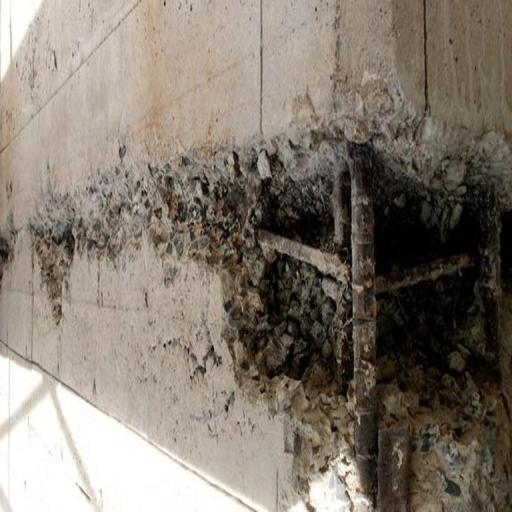spalling: (40, 109, 509, 511)
